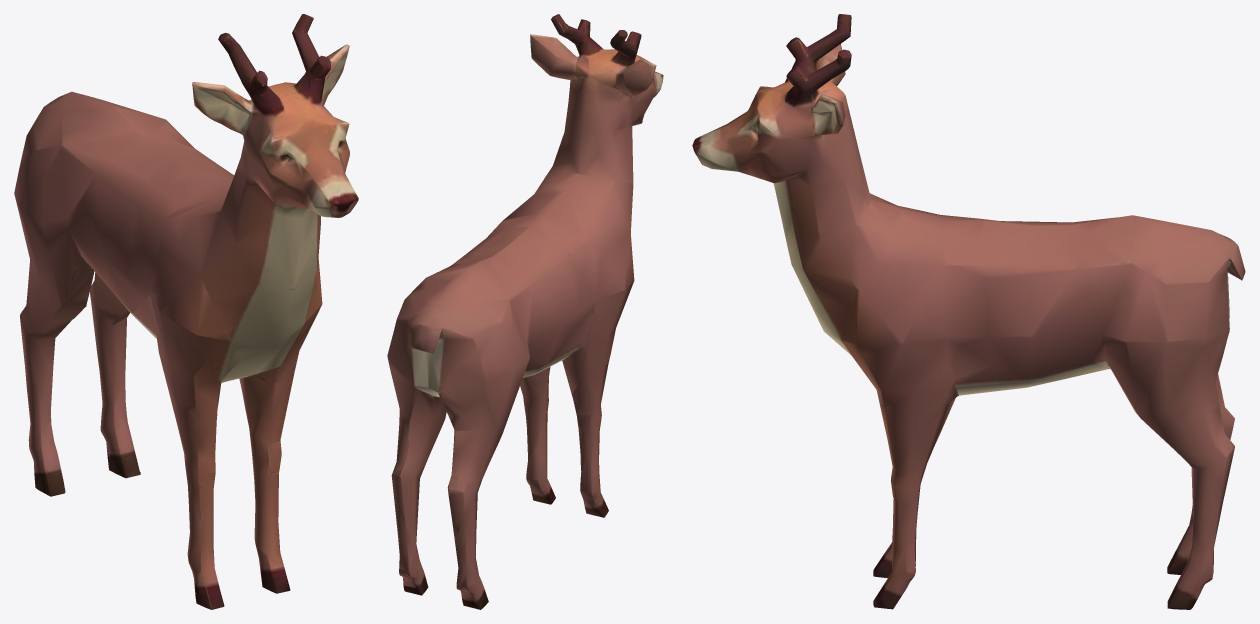
File: deer.glb
3 renders of one model, left to right at view 1: azimuth 30°, elevation 25°; view 2: azimuth 150°, elevation 25°; view 3: azimuth 270°, elevation 25°, orthographic. The views are drawn at different scales.
Visible parts, largest first — view 1: Mesh_0; view 2: Mesh_0; view 3: Mesh_0.
Boxes of the visible parts, <box> form: Mesh_0: <box>14,14,358,609</box>; Mesh_0: <box>387,14,663,609</box>; Mesh_0: <box>692,14,1245,609</box>.
Size of the model in its own units: 0.5356 by 1.91 by 1.72.
Materials: 1 (1 with a texture image).
